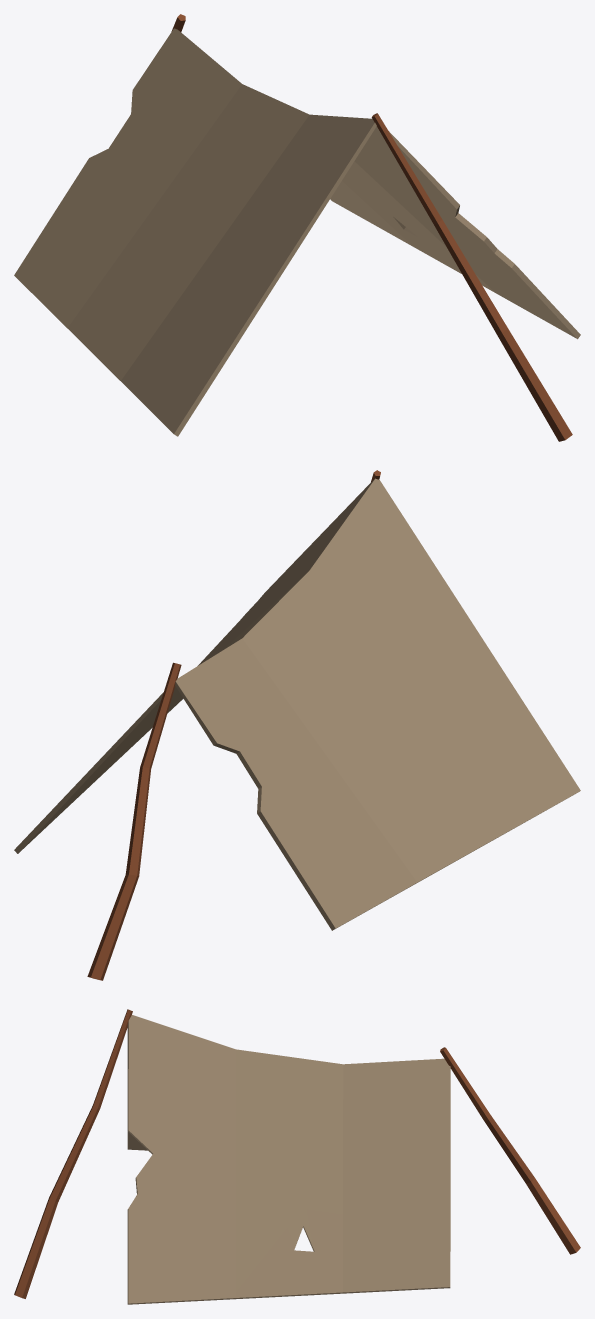
File: LP_PostApoc_TatteredTentB.fbx
3 renders of one model, top to bottom at view 1: azimuth 30°, elevation 25°; view 2: azimuth 150°, elevation 25°; view 3: azimuth 270°, elevation 25°, orthographic. The views are drawn at different scales.
Parts seen in each view (by area): view 1: TatteredTentB; view 2: TatteredTentB; view 3: TatteredTentB.
Boxes of the visible parts, <box> form: TatteredTentB: <box>14,14,580,441</box>; TatteredTentB: <box>14,470,580,980</box>; TatteredTentB: <box>14,1009,580,1304</box>.
Size of the model in its own units: 402 by 289 by 610.
